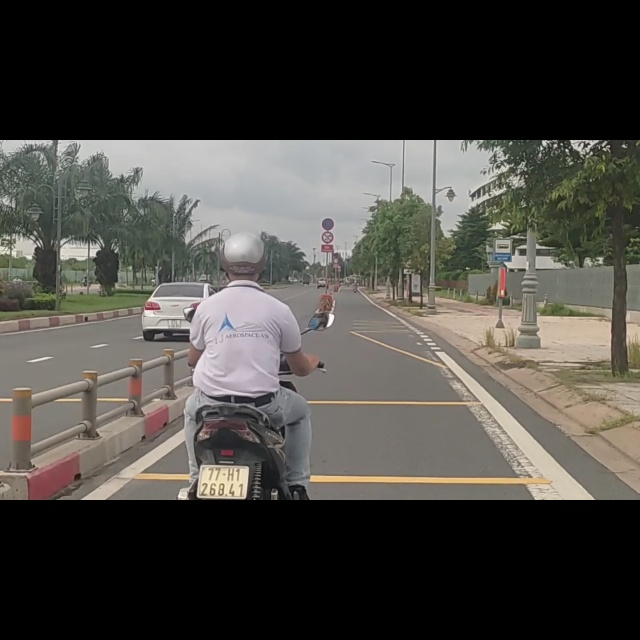bien_hieu_lenh: (492, 174, 515, 219), (321, 161, 335, 184), (321, 139, 335, 161)
